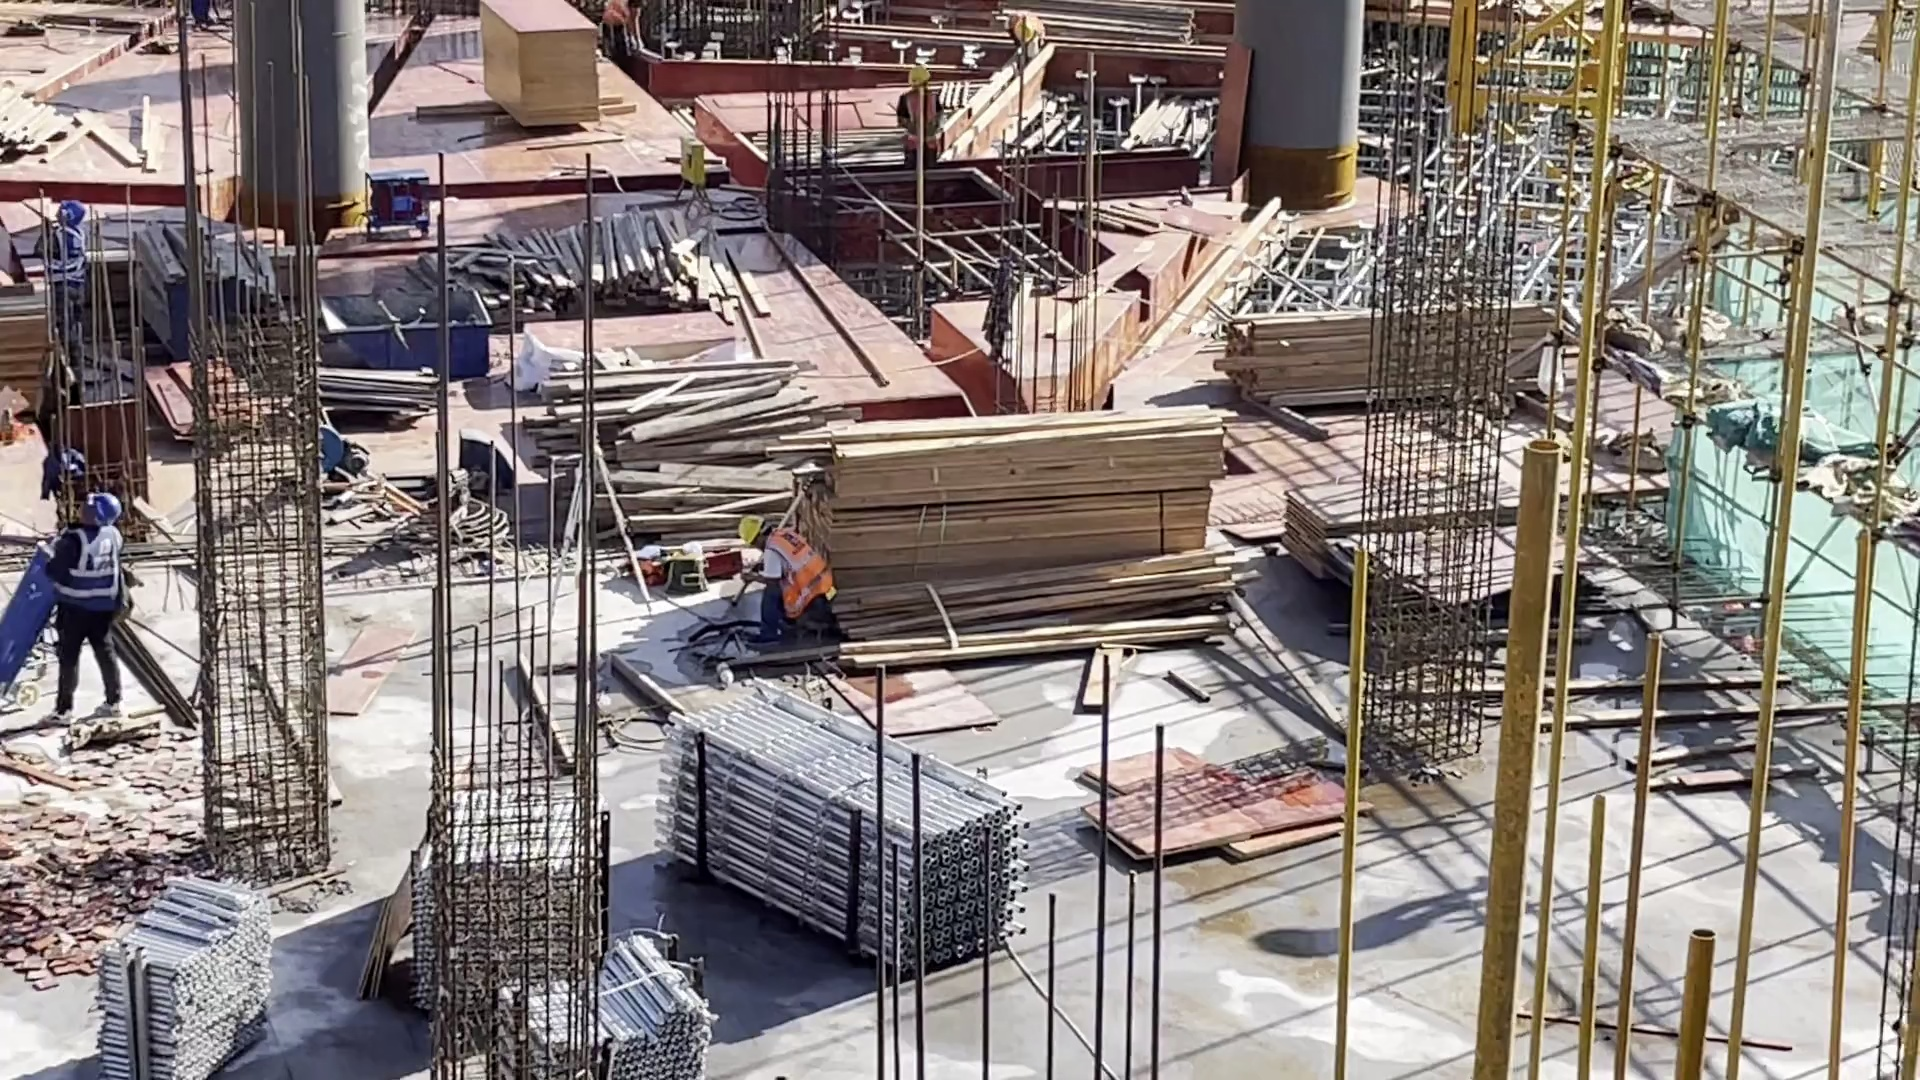board: (1273, 466, 1585, 630), (473, 3, 603, 131)
helmet: (87, 493, 125, 520), (734, 517, 768, 545), (55, 203, 85, 225), (1015, 17, 1035, 44), (908, 69, 929, 85)
hopper: (317, 291, 492, 373)
person: (37, 489, 137, 723), (734, 508, 841, 641), (37, 198, 106, 327), (895, 71, 952, 164), (1003, 8, 1047, 54), (606, 1, 641, 54)
scaffold: (651, 682, 1039, 975), (417, 787, 715, 1080), (92, 875, 271, 1080)
vest: (767, 531, 833, 616), (63, 530, 121, 600), (899, 89, 943, 160), (50, 227, 84, 278), (605, 3, 630, 27)
wood: (769, 409, 1235, 662), (539, 348, 825, 533), (1214, 297, 1547, 416), (428, 222, 761, 331)
